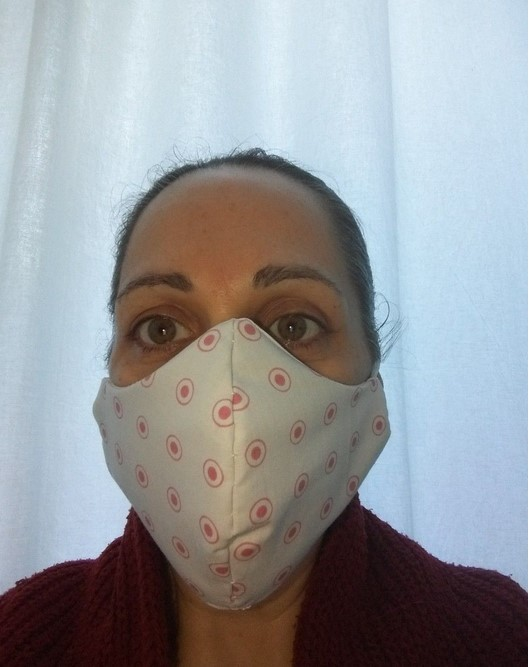face_with_mask: (95, 154, 401, 619)
